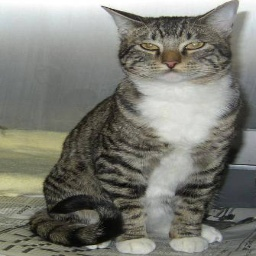cat: (26, 0, 239, 252)
